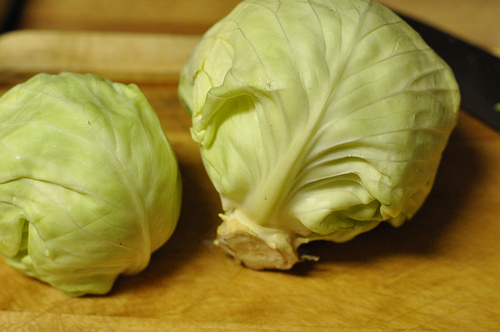cabbage: (182, 0, 472, 274), (2, 69, 183, 299)
